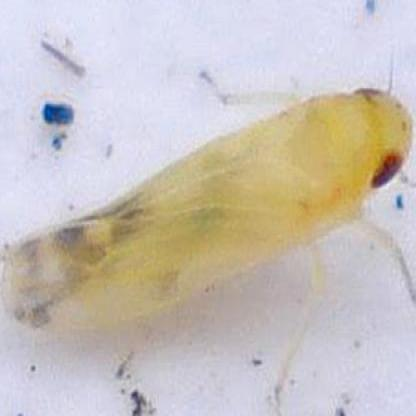green-leafhopper: (3, 71, 416, 406)
